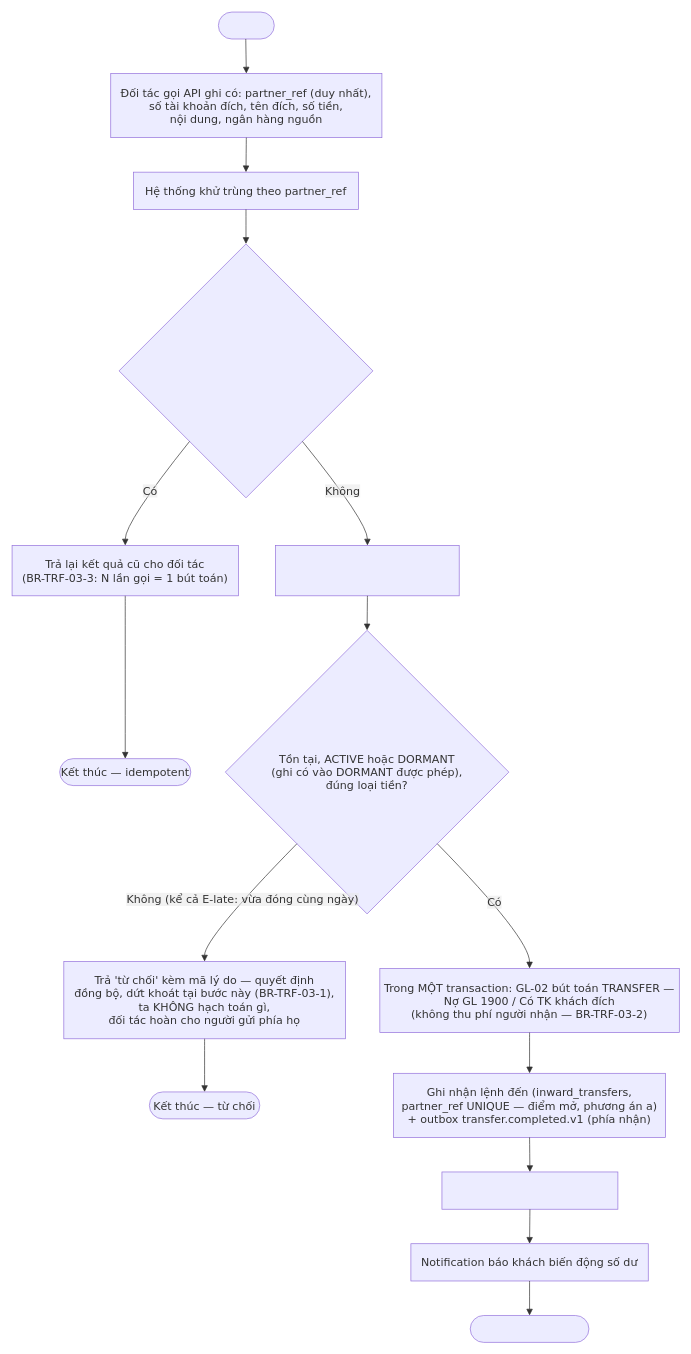
The diagram is 691 pixels wide and 1354 high, and some of its shapes have lost their labels. Here are the shapes that lost their labels. From the top down, the box of each, then its label:
(218, 11, 274, 39): Bắt đầu
(118, 243, 373, 498): partner_ref đã xử lý trước đó?
(275, 545, 459, 596): Hệ thống tra tài khoản đích: tồn tại, trạng thái, loại tiền
(441, 1171, 618, 1209): Trả 'chấp nhận' cho đối tác
(470, 1315, 589, 1342): Kết thúc — đã ghi có
